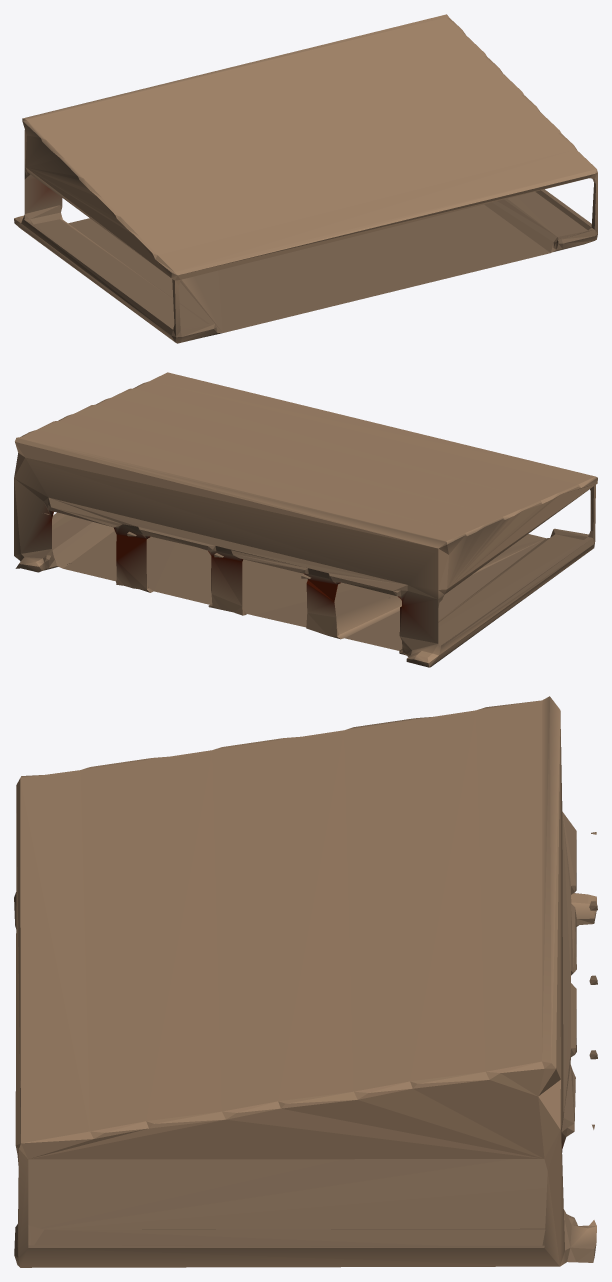
The model's file is Storage Buildings(2).glb.
3 views of the same model, one above another, from view 1: azimuth 30°, elevation 25°; view 2: azimuth 150°, elevation 25°; view 3: azimuth 270°, elevation 25° (orthographic). The views are drawn at different scales.
Visible parts, largest first — view 1: Root; view 2: Root; view 3: Root.
Part boxes in pixels (bbox=[...]): Root: bbox=[14, 14, 597, 343]; Root: bbox=[14, 372, 597, 667]; Root: bbox=[14, 696, 597, 1267].
Bounding box in the file's own units: 21.59 × 5.73 × 14.44.
